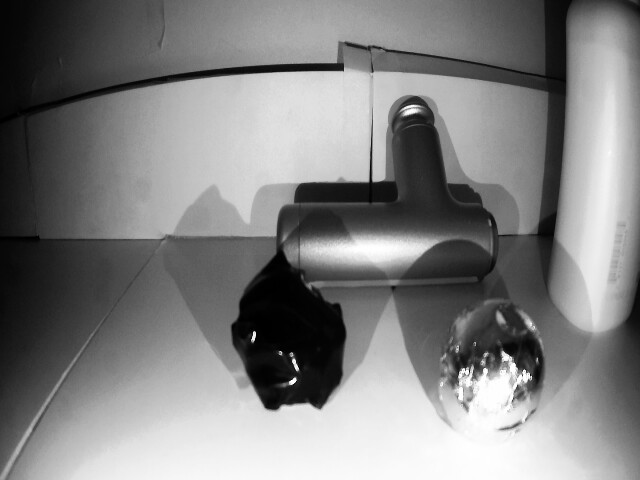black: (435, 290, 546, 441)
silver: (231, 261, 363, 414)
